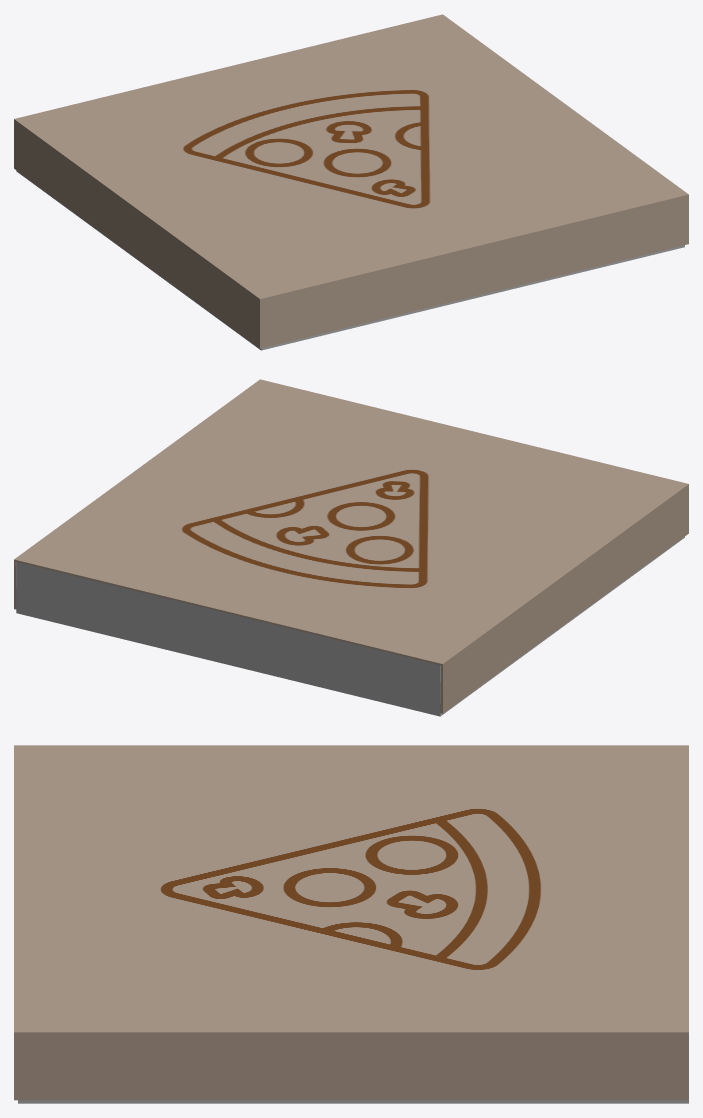
File: Pizza.FBX
The picture shows the model from 3 angles, top to bottom: view 1: azimuth 30°, elevation 25°; view 2: azimuth 150°, elevation 25°; view 3: azimuth 270°, elevation 25°; orthographic projection. The views are drawn at different scales.
Parts seen in each view (by area): view 1: pizza box top, pizza box bottom; view 2: pizza box top, pizza box bottom; view 3: pizza box top, pizza box bottom.
Boxes of the visible parts, x1,y1,x2,y2 form: pizza box top: (14, 14, 688, 348); pizza box bottom: (16, 170, 684, 350); pizza box top: (14, 379, 688, 713); pizza box bottom: (16, 537, 684, 716); pizza box top: (14, 745, 688, 1100); pizza box bottom: (18, 1100, 688, 1103).
Bounding box in the file's own units: 0.172 × 0.0204 × 0.171.
